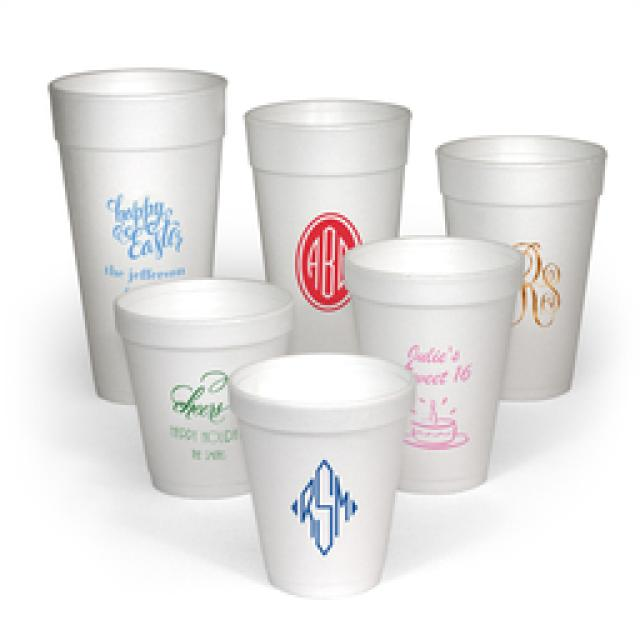styrofoam: (50, 70, 602, 592)
